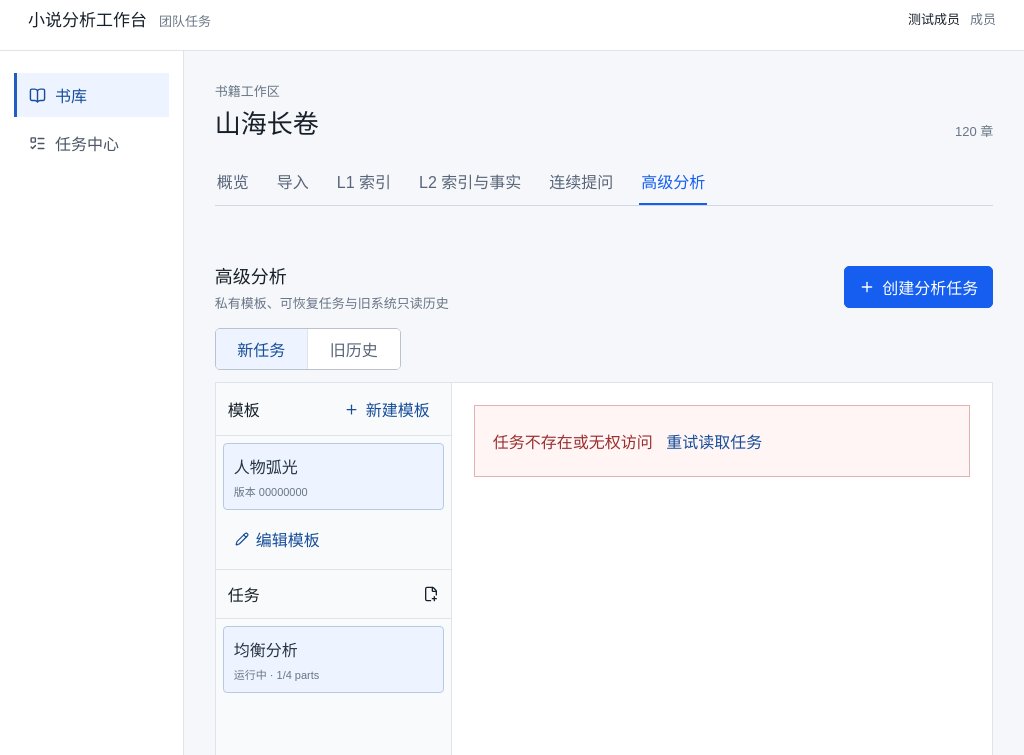
Scenario: book-scoped advanced analysis workspace › keeps book context in not-found, provider and retryable states
Check: the text "任务不存在或无权访问" is shown, box [493, 434, 653, 451]
Check: the heading "山海长卷" is shown, box [215, 103, 319, 140]
Click the button "重试读取任务" at (714, 441), box [657, 424, 771, 458]
(page scrolled)
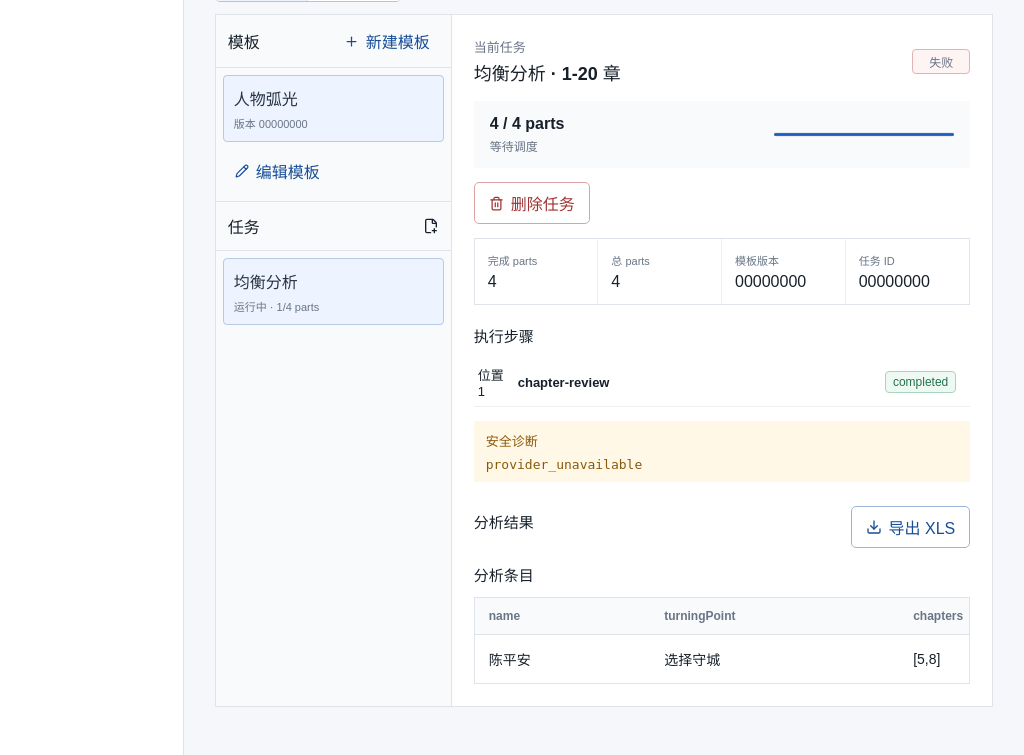
Check: the text "provider_unavailable" is shown, box [486, 457, 642, 472]
